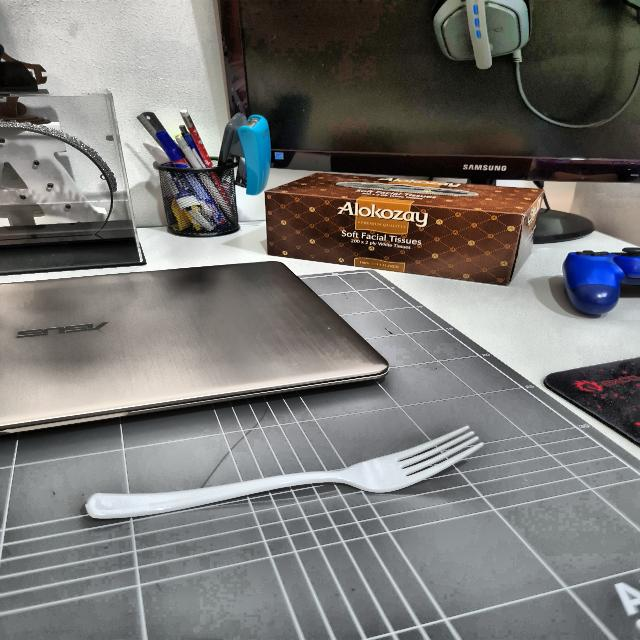plastic utensil: (89, 426, 490, 527)
